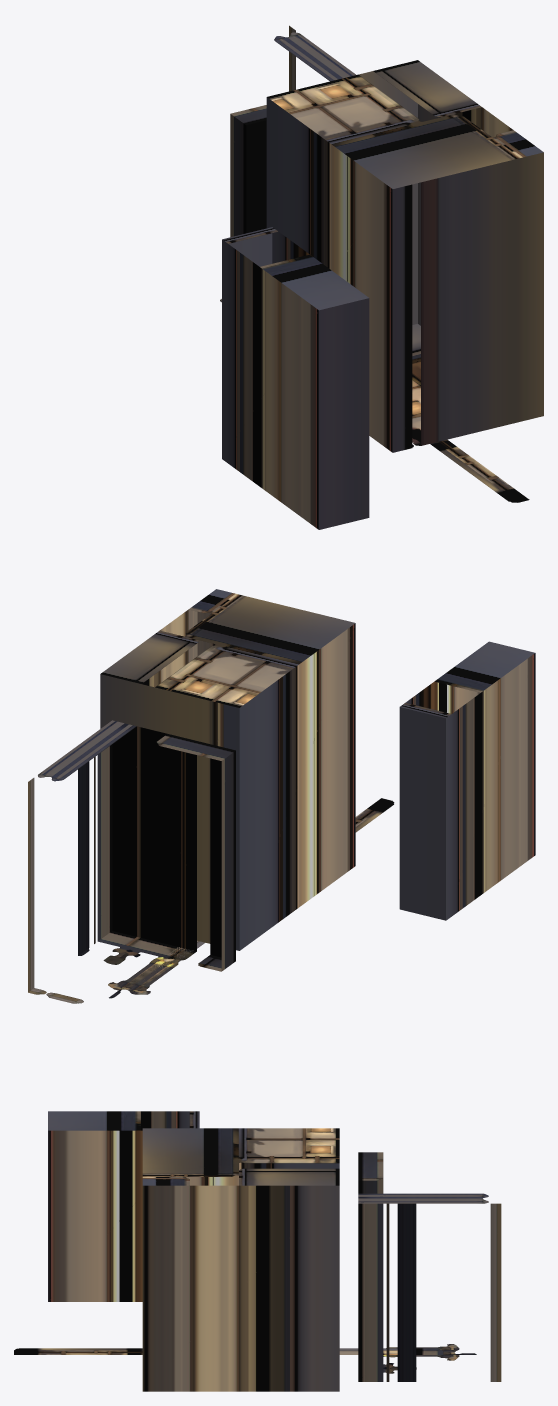
Rendered from environment.obj.
3 views of the same model, one above another, from view 1: azimuth 30°, elevation 25°; view 2: azimuth 150°, elevation 25°; view 3: azimuth 270°, elevation 25° (orthographic). The views are drawn at different scales.
Visible parts, largest first — view 1: RENDER_Ground_EnvironmentBakedAtlas; view 2: RENDER_Ground_EnvironmentBakedAtlas; view 3: RENDER_Ground_EnvironmentBakedAtlas.
Boxes of the visible parts, x1,y1,x2,y2 form: RENDER_Ground_EnvironmentBakedAtlas: [220, 25, 543, 529]; RENDER_Ground_EnvironmentBakedAtlas: [28, 589, 535, 1003]; RENDER_Ground_EnvironmentBakedAtlas: [14, 1111, 501, 1391].
Bounding box in the file's own units: 6.8 × 6.4 × 14.
Materials: 1 (1 with a texture image).
